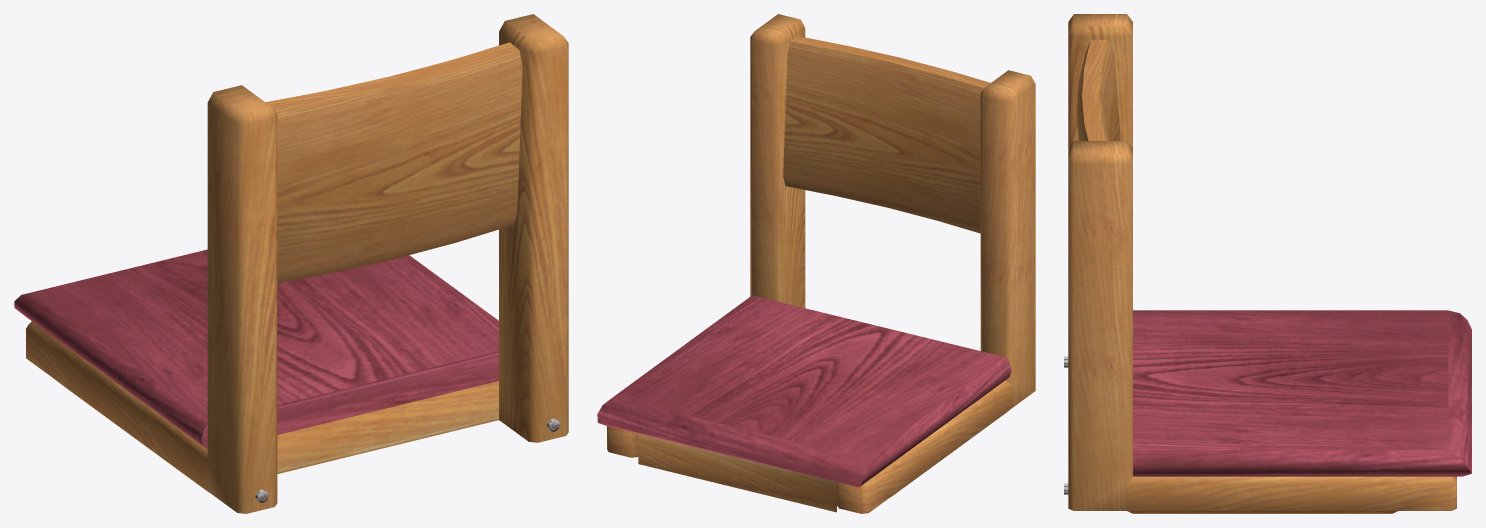
3 renders of one model, left to right at view 1: azimuth 30°, elevation 25°; view 2: azimuth 150°, elevation 25°; view 3: azimuth 270°, elevation 25°, orthographic. The views are drawn at different scales.
Visible parts, largest first — view 1: Joint_0_Object_0, Joint_0_Object_2; view 2: Joint_0_Object_0, Joint_0_Object_2; view 3: Joint_0_Object_2, Joint_0_Object_0.
Boxes of the visible parts, box(x1,y1,x2,y2) form: Joint_0_Object_0: box(26, 14, 568, 513); Joint_0_Object_2: box(14, 249, 498, 449); Joint_0_Object_0: box(607, 14, 1035, 513); Joint_0_Object_2: box(597, 295, 1011, 487); Joint_0_Object_2: box(1133, 310, 1471, 476); Joint_0_Object_0: box(1068, 14, 1456, 513).
Bounding box in the file's own units: 590 × 680 × 692.
Materials: 3 (3 with a texture image).
